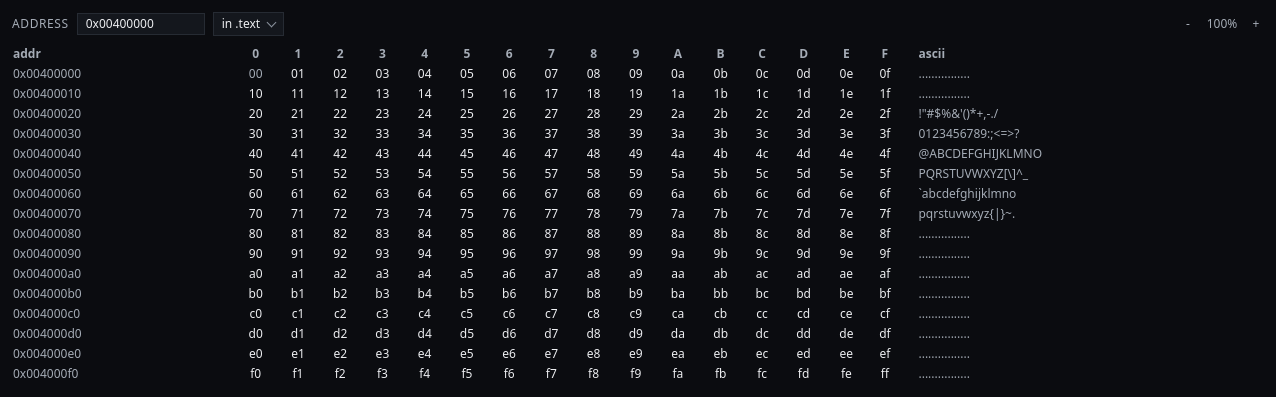
Test: MemoryPanel region label › updates live for a typed address inside a section
# Mid-.bss, not a band edge: the label follows the address, not the jump.
Step 1. Replace the text in the field named "memory base address" with "0x00712340" → [141, 24], box [77,13,205,35]
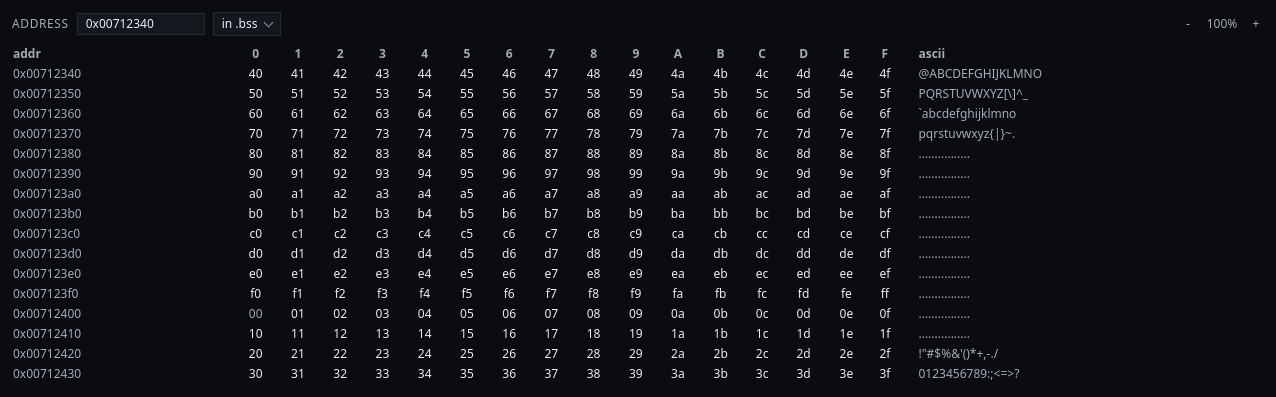
Expected: the dropdown named "jump to section" reads "in .bss", [213,12,281,36]
